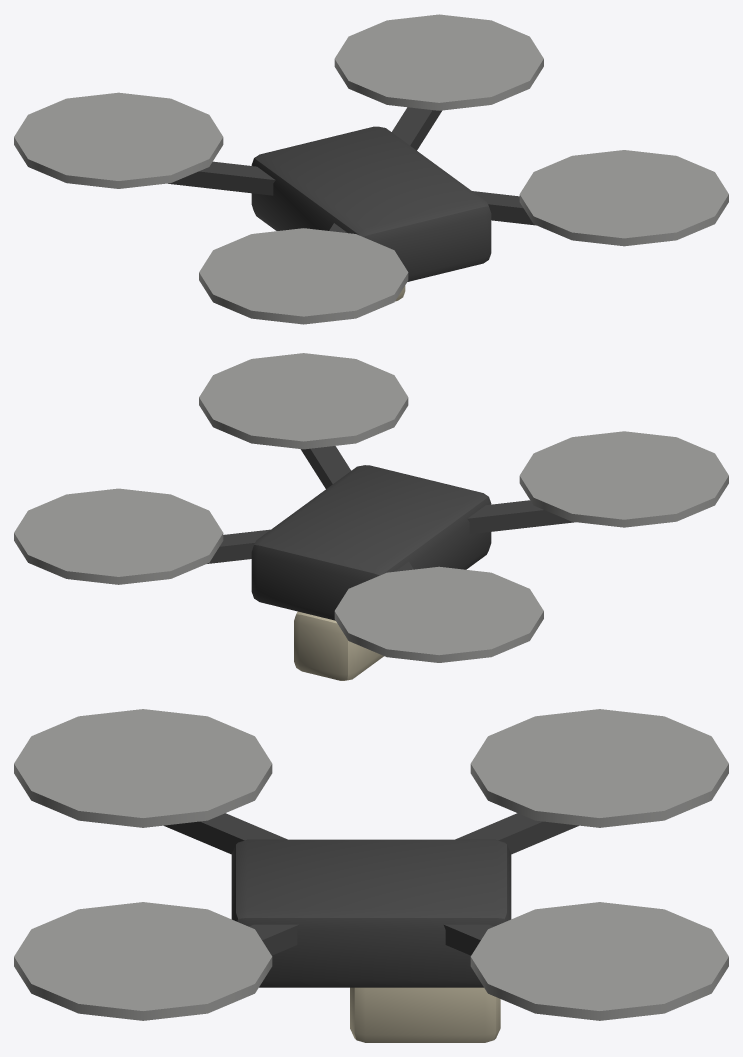
The model's file is rus_lm_upyr.glb.
3 views of the same model, one above another, from view 1: azimuth 30°, elevation 25°; view 2: azimuth 150°, elevation 25°; view 3: azimuth 270°, elevation 25° (orthographic). The views are drawn at different scales.
Visible parts, largest first — view 1: body; view 2: body; view 3: body.
Part boxes in pixels (x1,y1,x2,y2): body: (14,14,728,324); body: (14,353,728,680); body: (14,709,728,1042).
Size of the model in its own units: 0.6643 by 0.175 by 0.6643.
